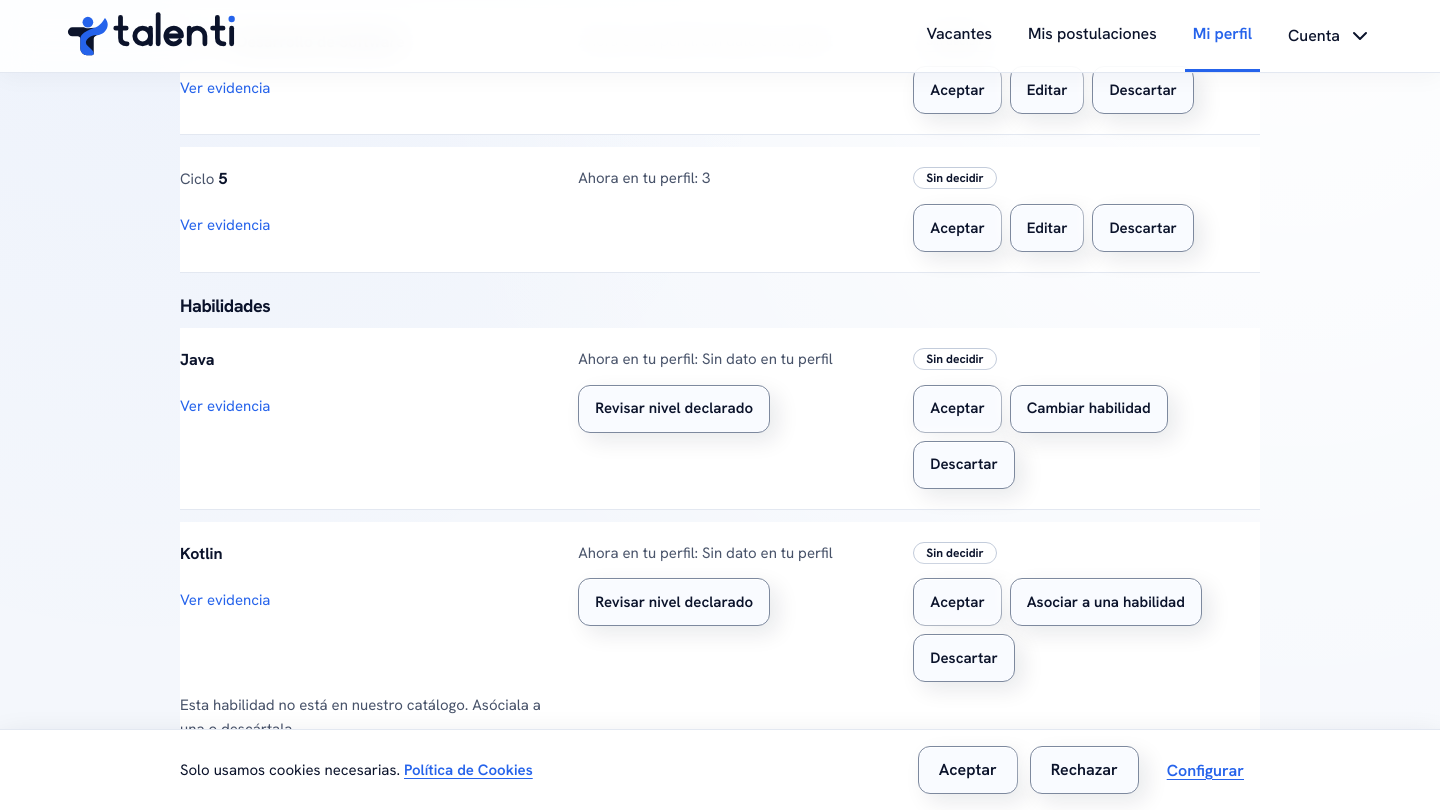
Test case: Review (009-21, 009-22) › 009-21: a skill needs a level to be accepted; with it, it is accepted
(page scrolled)
Click the 3rd button "Aceptar" at x=958, y=409, box left=913, top=385, right=1002, bottom=433
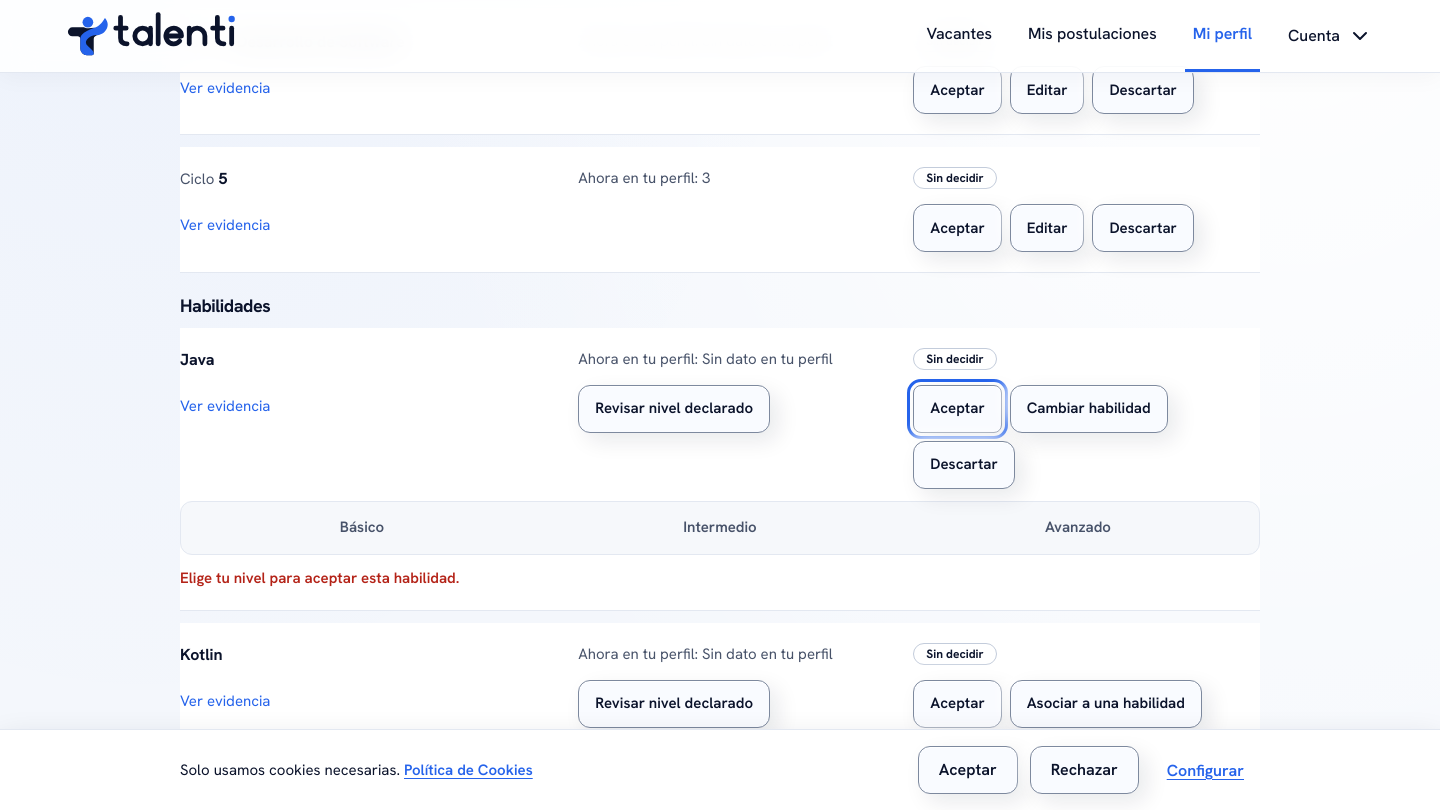
Check: the 2nd text "Sin decidir" is shown, box left=913, top=348, right=997, bottom=370
Check: the message reads "Elige tu nivel para aceptar esta habilidad.", box left=180, top=568, right=459, bottom=588
Click the radio button labelled "Avanzado" at x=1078, y=527, box left=1045, top=517, right=1111, bottom=537
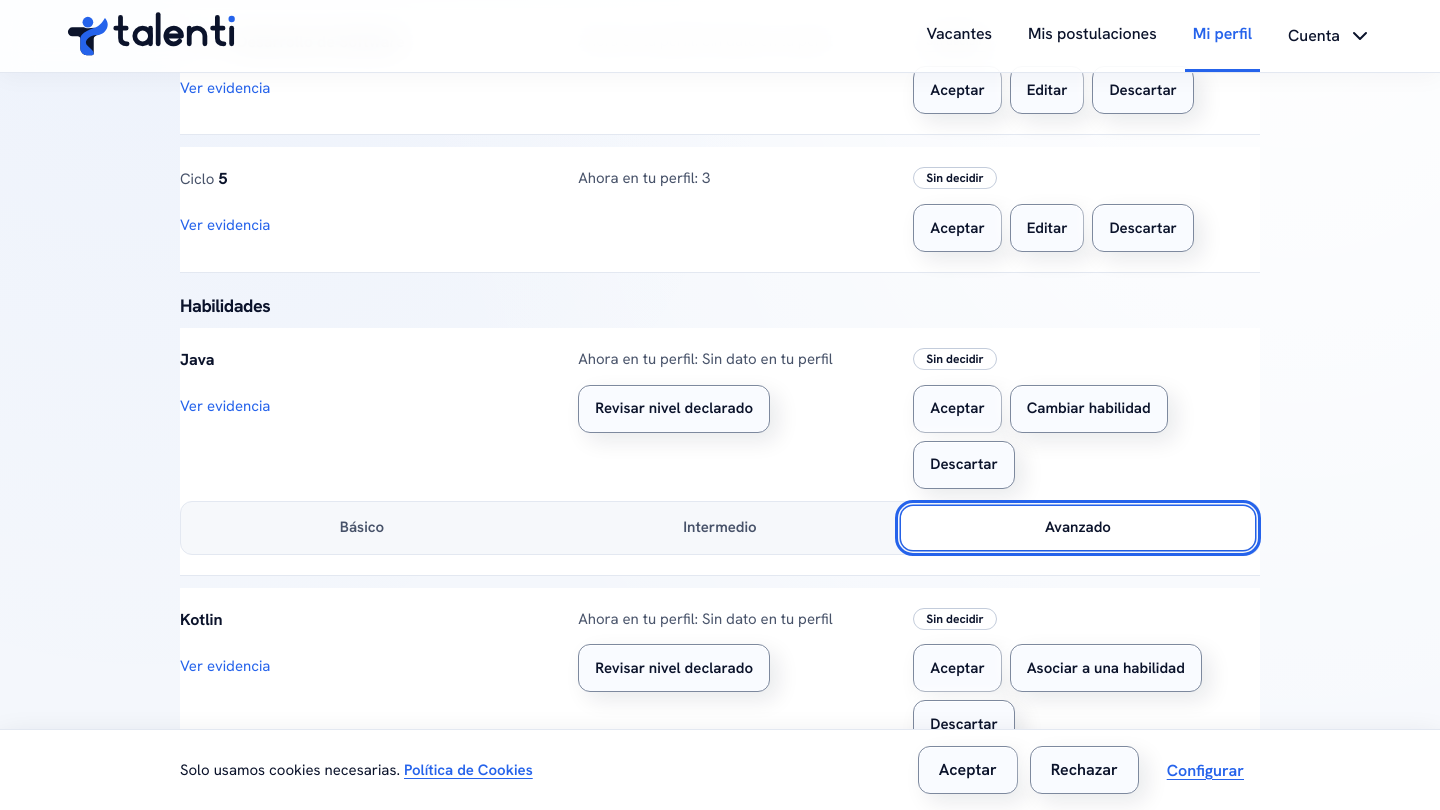
Click the 3rd button "Aceptar" at x=958, y=409, box left=913, top=385, right=1002, bottom=433
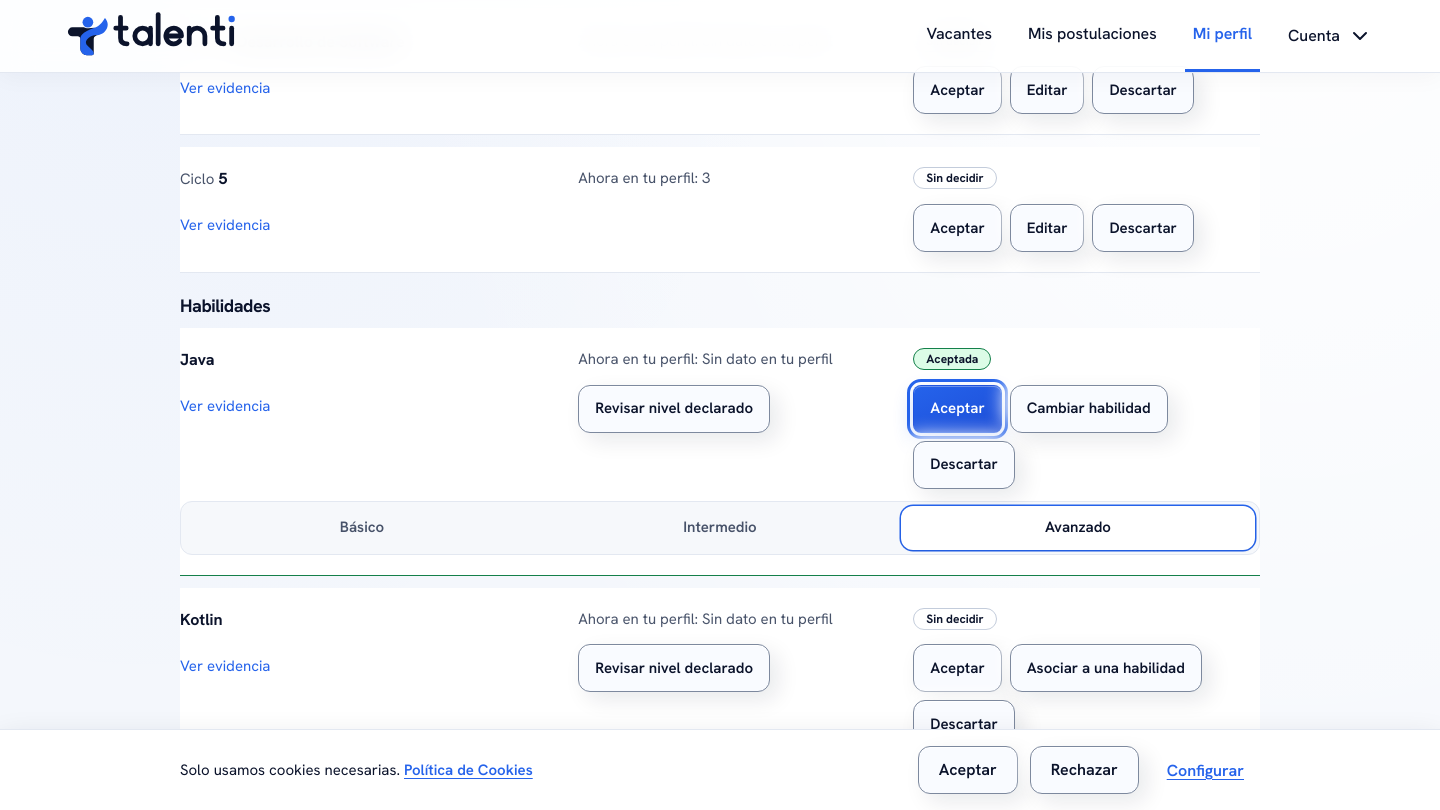
Check: the text "Aceptada" is shown, box left=913, top=348, right=991, bottom=370
